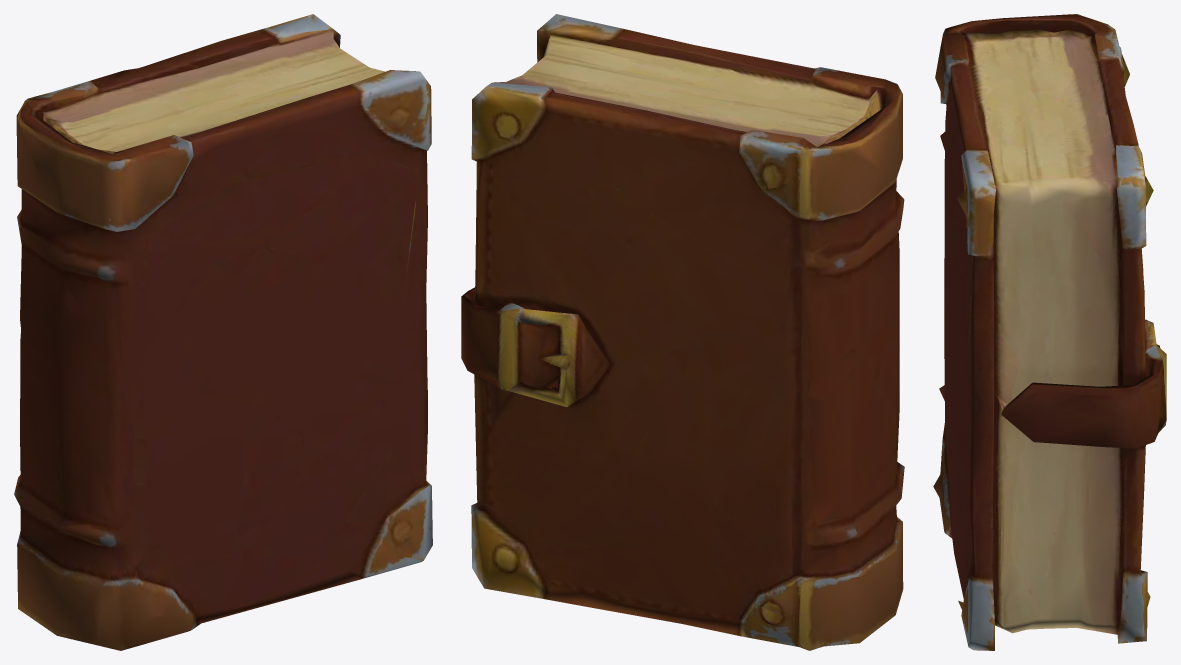
Rendered from tome_wynd_mid.glb.
3 renders of one model, left to right at view 1: azimuth 30°, elevation 25°; view 2: azimuth 150°, elevation 25°; view 3: azimuth 270°, elevation 25°, orthographic. The views are drawn at different scales.
Visible parts, largest first — view 1: tripo_node_e2315cda-409c-450a-ba6d-35b8a0cbbc79; view 2: tripo_node_e2315cda-409c-450a-ba6d-35b8a0cbbc79; view 3: tripo_node_e2315cda-409c-450a-ba6d-35b8a0cbbc79.
Boxes of the visible parts, left/top/right/bottom form: tripo_node_e2315cda-409c-450a-ba6d-35b8a0cbbc79: left=14, top=14, right=432, bottom=650; tripo_node_e2315cda-409c-450a-ba6d-35b8a0cbbc79: left=461, top=14, right=904, bottom=650; tripo_node_e2315cda-409c-450a-ba6d-35b8a0cbbc79: left=933, top=14, right=1166, bottom=650.
Bounding box in the file's own units: 0.7693 × 1 × 0.4455.
Materials: 1 (1 with a texture image).
